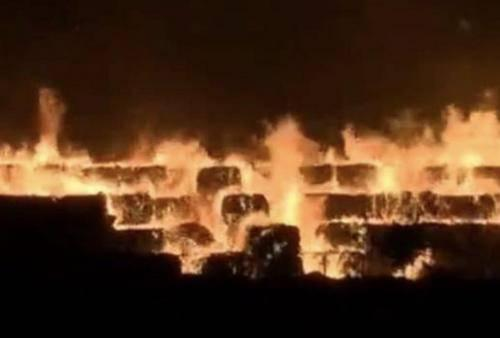fire: (7, 133, 492, 281)
